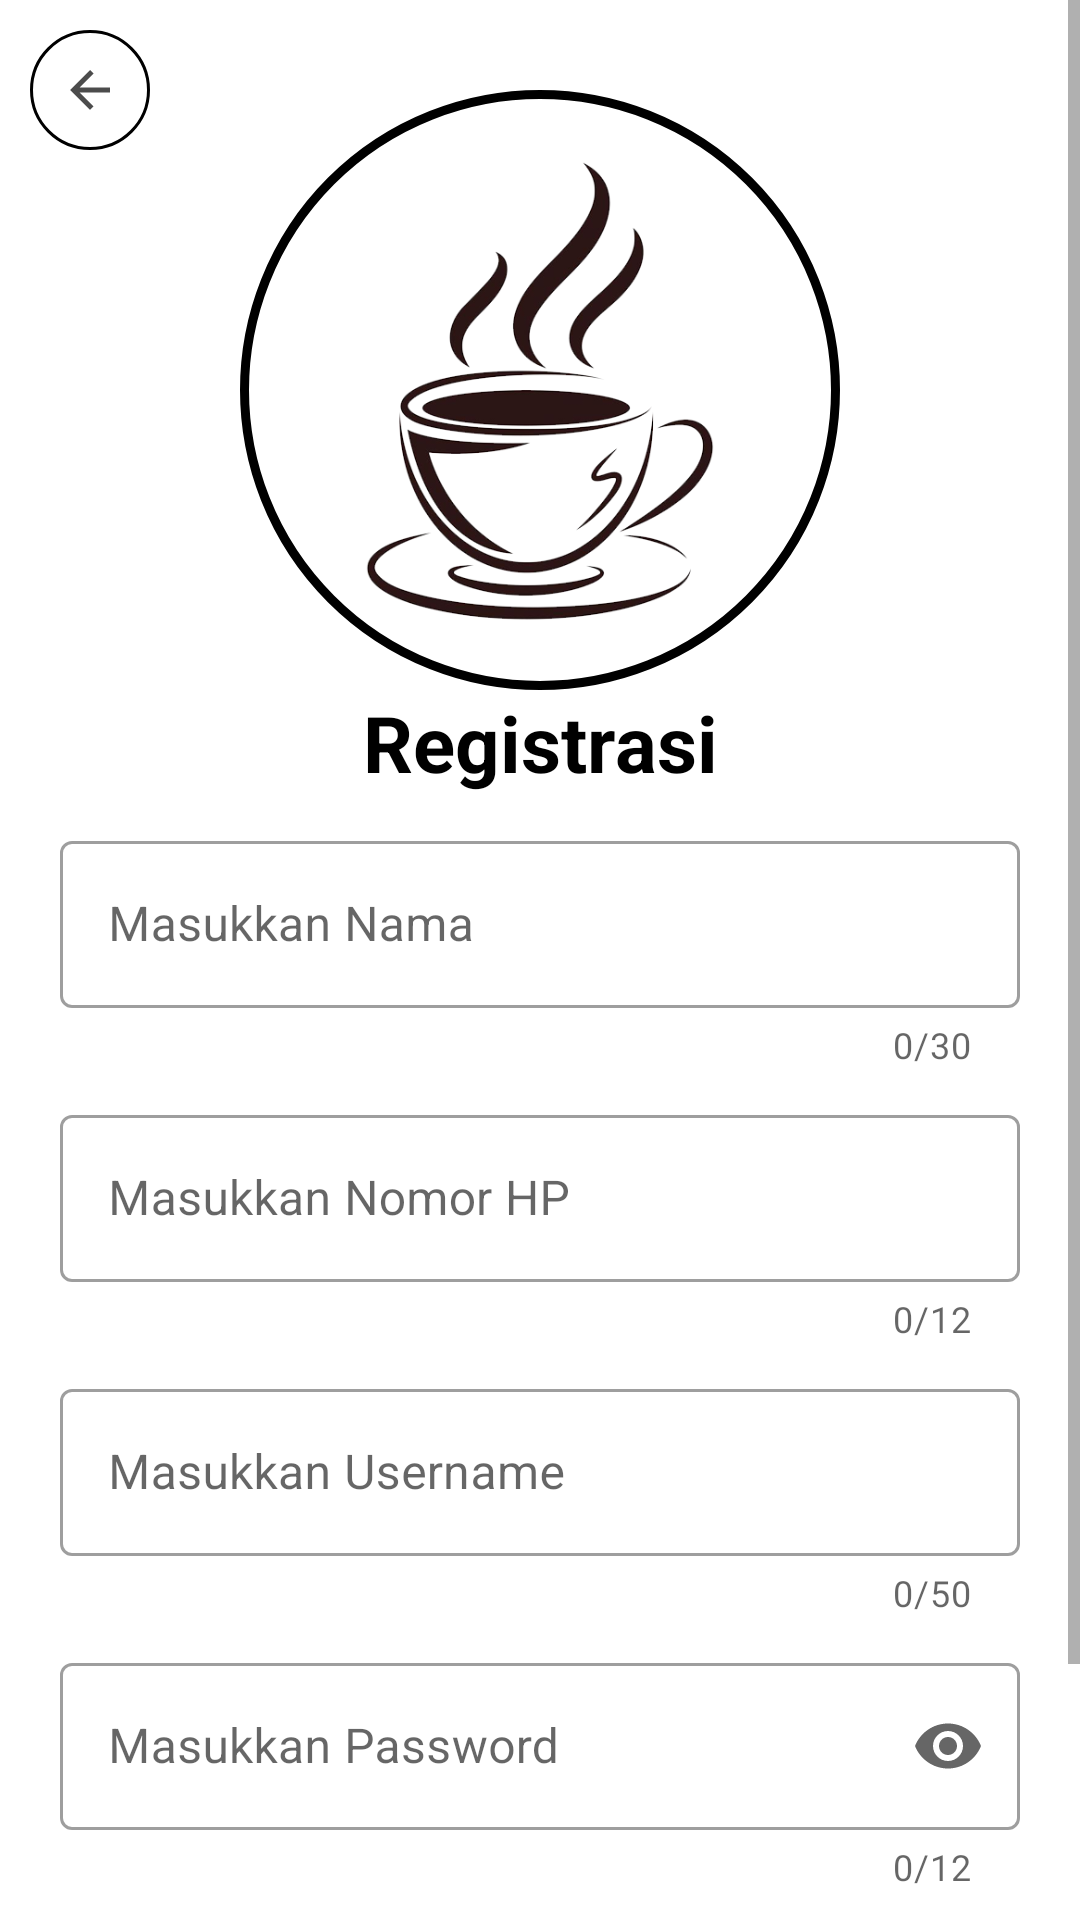

Icon click points for this 1080 x 1920 phone screenshot, format (x,y):
arrow back: (90,90)
